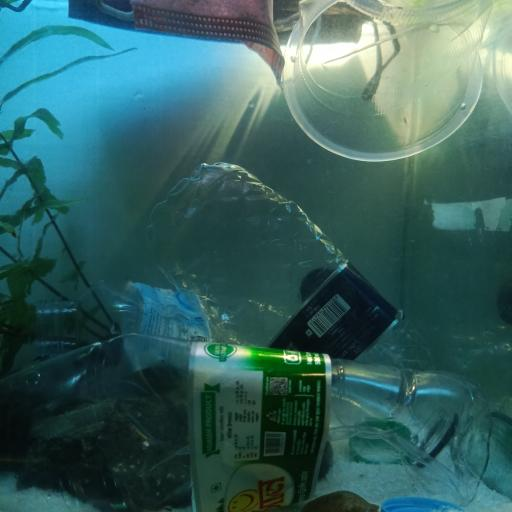bottle_cap: (349, 422, 417, 466), (376, 492, 458, 512)
mask: (66, 0, 286, 89)
plastic_bottle: (146, 163, 468, 469), (0, 334, 479, 502), (37, 276, 432, 424)
plastic_cup: (284, 0, 487, 162)
